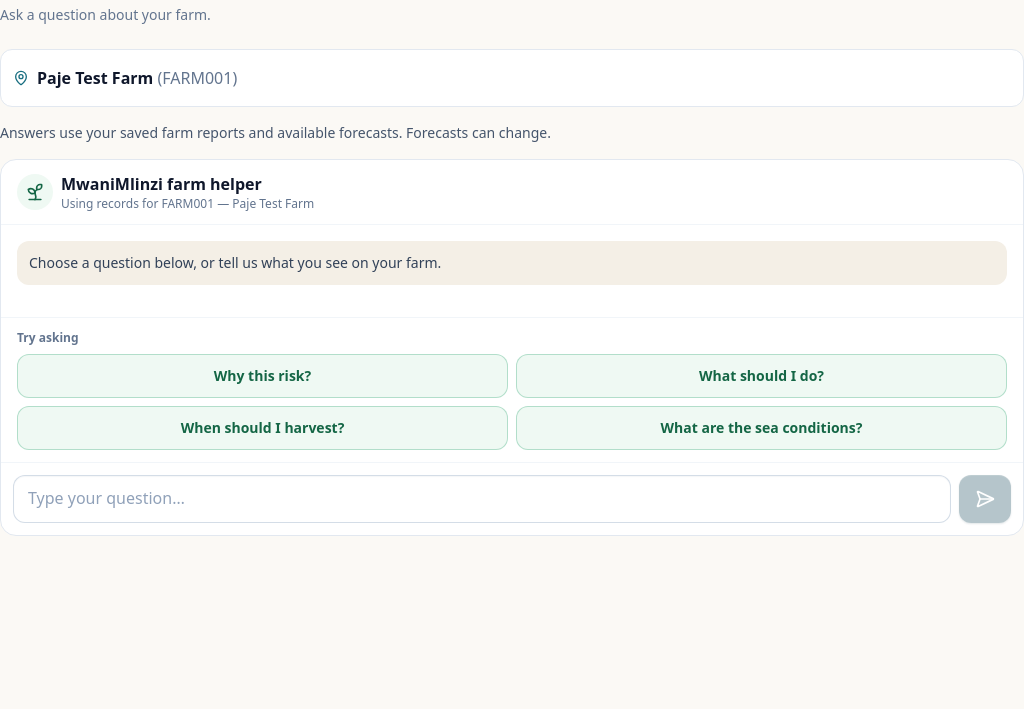
Test: Farm assistant › confirms an observation draft and shows the resulting risk
Step 1. Type "I see whitening on 20% of my seaweed" into the text box labelled "your question" → point(482, 499), box x1=13 y1=475 x2=951 y2=523
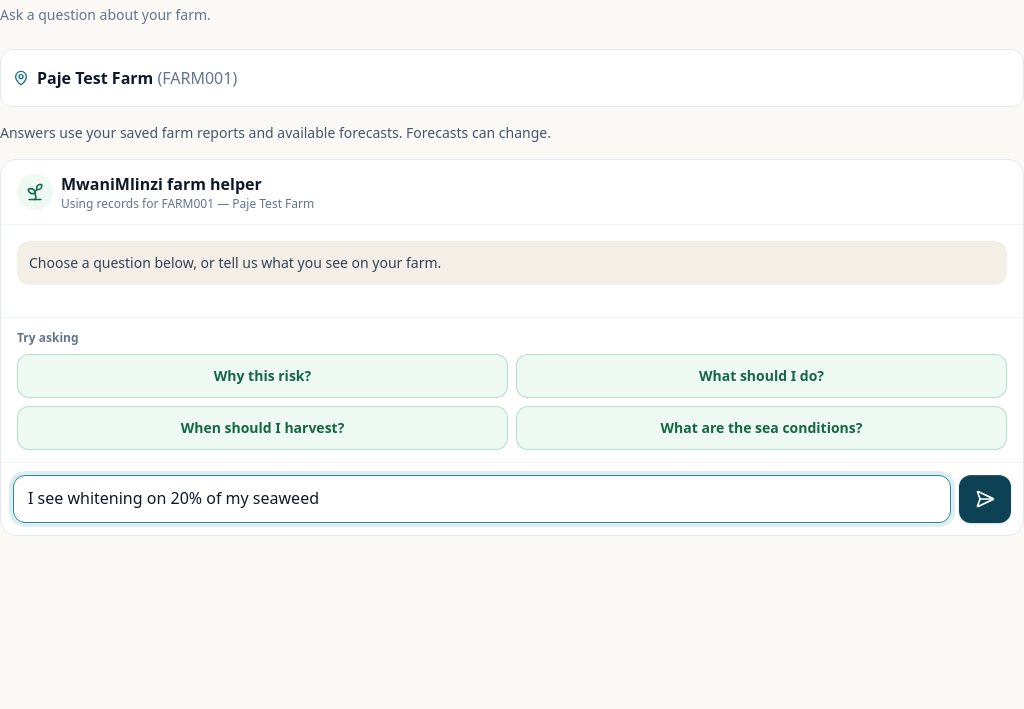
Step 2. Click the button named "Send" → point(985, 499), box x1=959 y1=475 x2=1011 y2=523
(page scrolled)
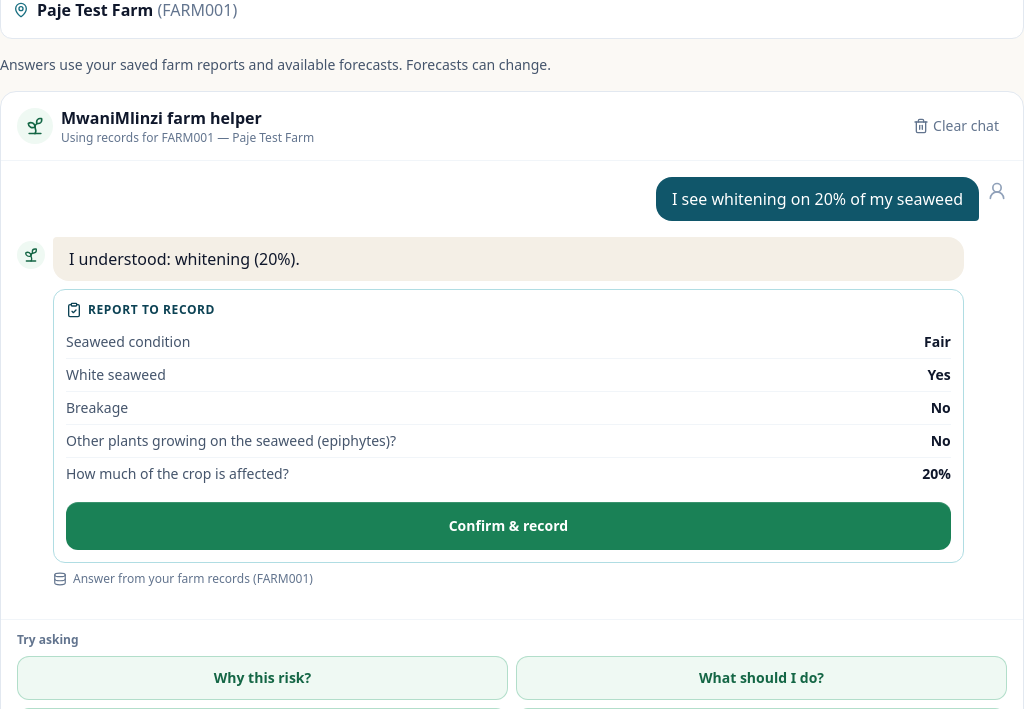
Step 3. Click the button "Confirm & record" → point(508, 526), box x1=66 y1=502 x2=951 y2=550
(page scrolled)
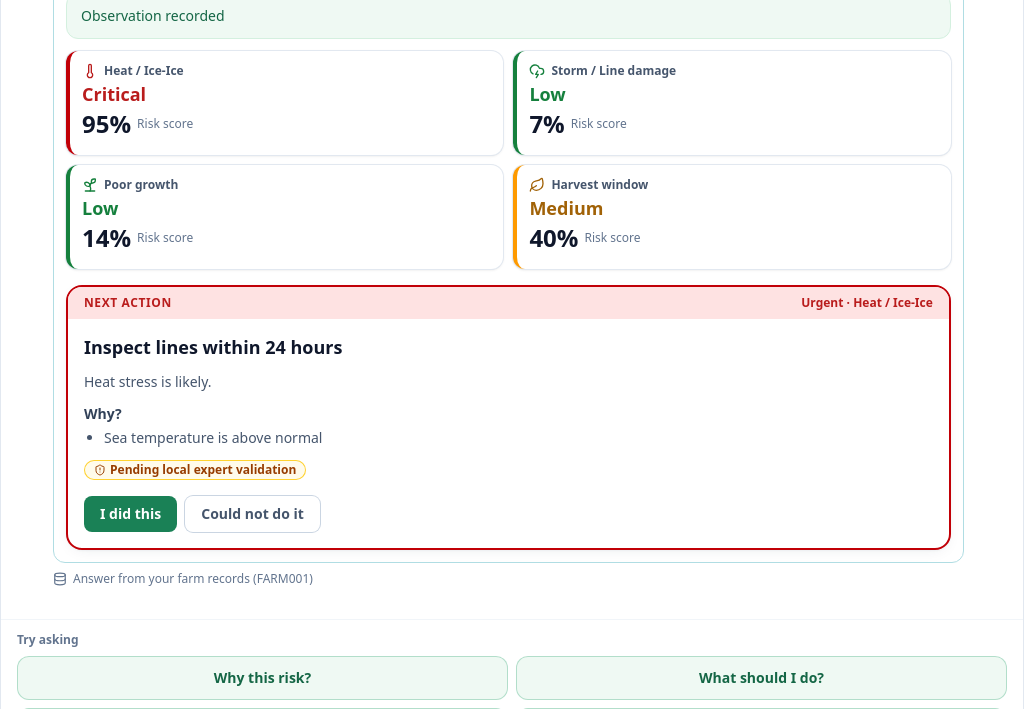
Expected: the element with test id "risk-tile-HEAT_ICE_ICE" shows "95%", x1=82 y1=107 x2=131 y2=140
